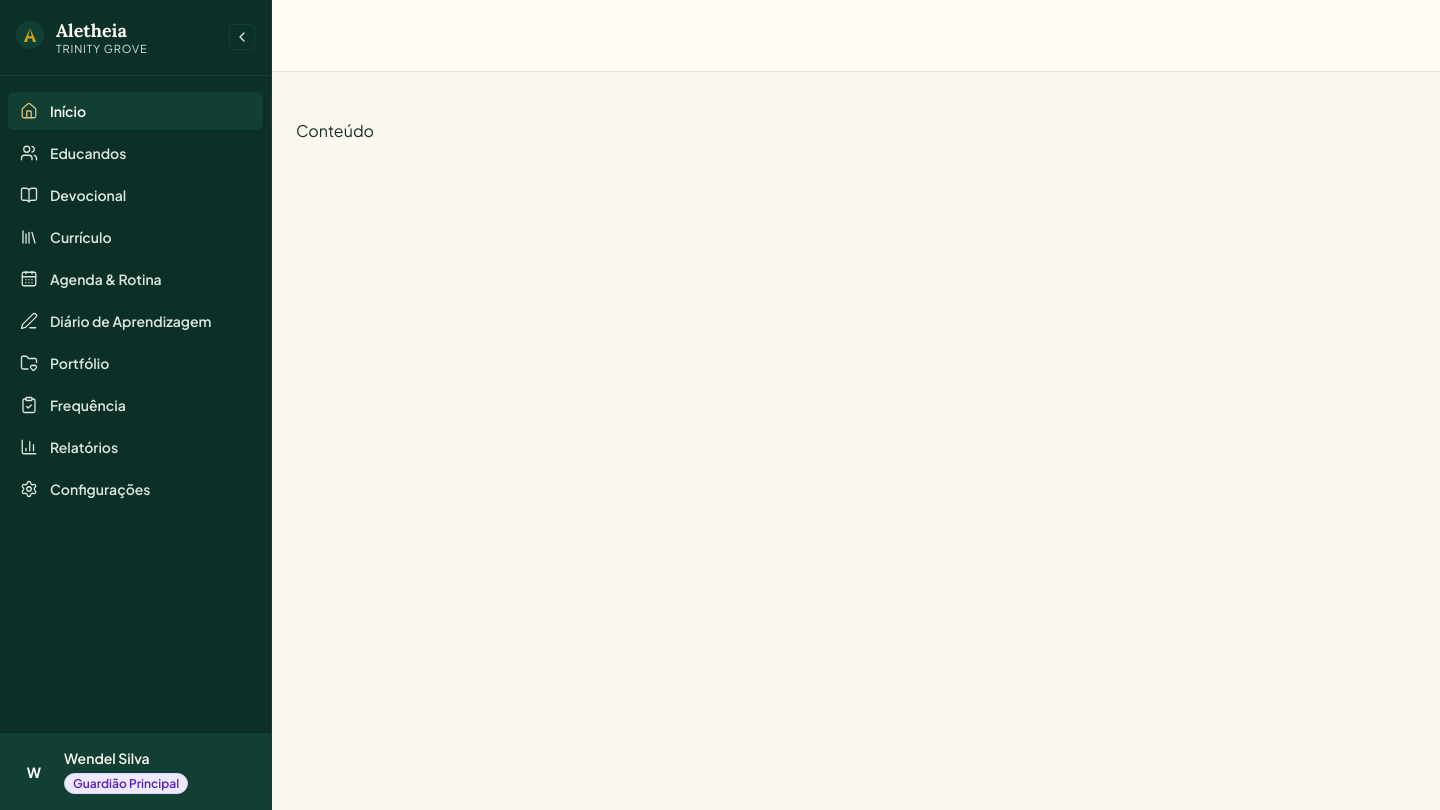
Test: ProductShell adapter › collapses profile details while retaining the desktop avatar
Click the button named "Recolher barra lateral" at (242, 37), box [229,24,255,50]
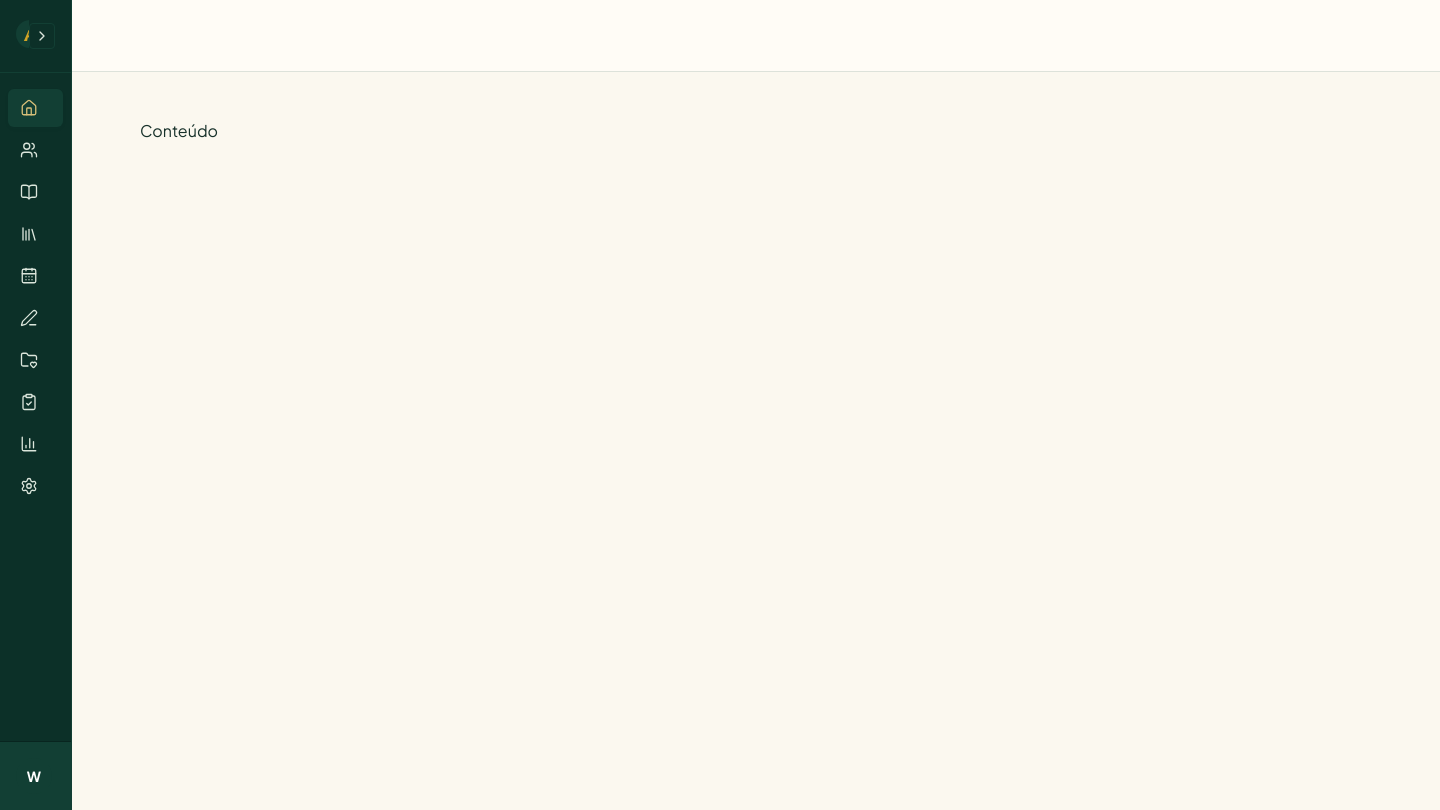
Expected: the text "W" is shown, [16,758,52,794]
Expected: the text "Wendel Silva" is gone
Expected: the text "Guardião Principal" is gone
